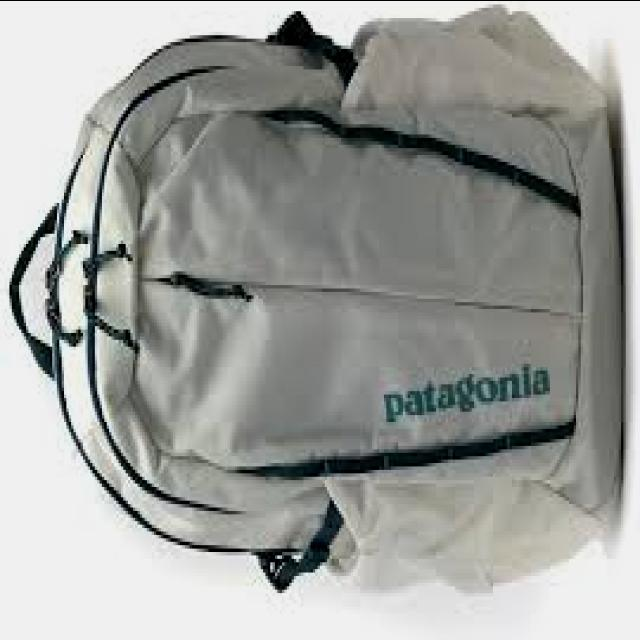backpack: (9, 8, 625, 596)
